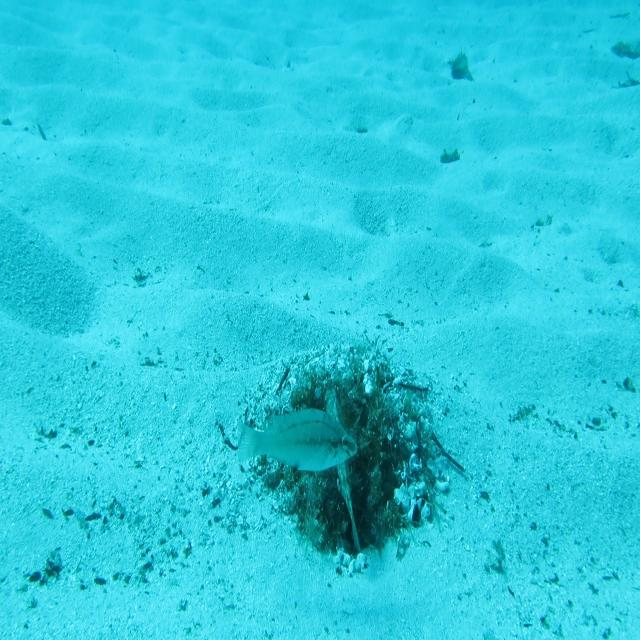ROLL: (321, 383, 365, 556)
core_nest: (318, 396, 368, 428)
female: (235, 403, 359, 478)
nest: (238, 334, 453, 592)
vegetation: (608, 11, 640, 90), (448, 49, 475, 87), (440, 148, 462, 165)
